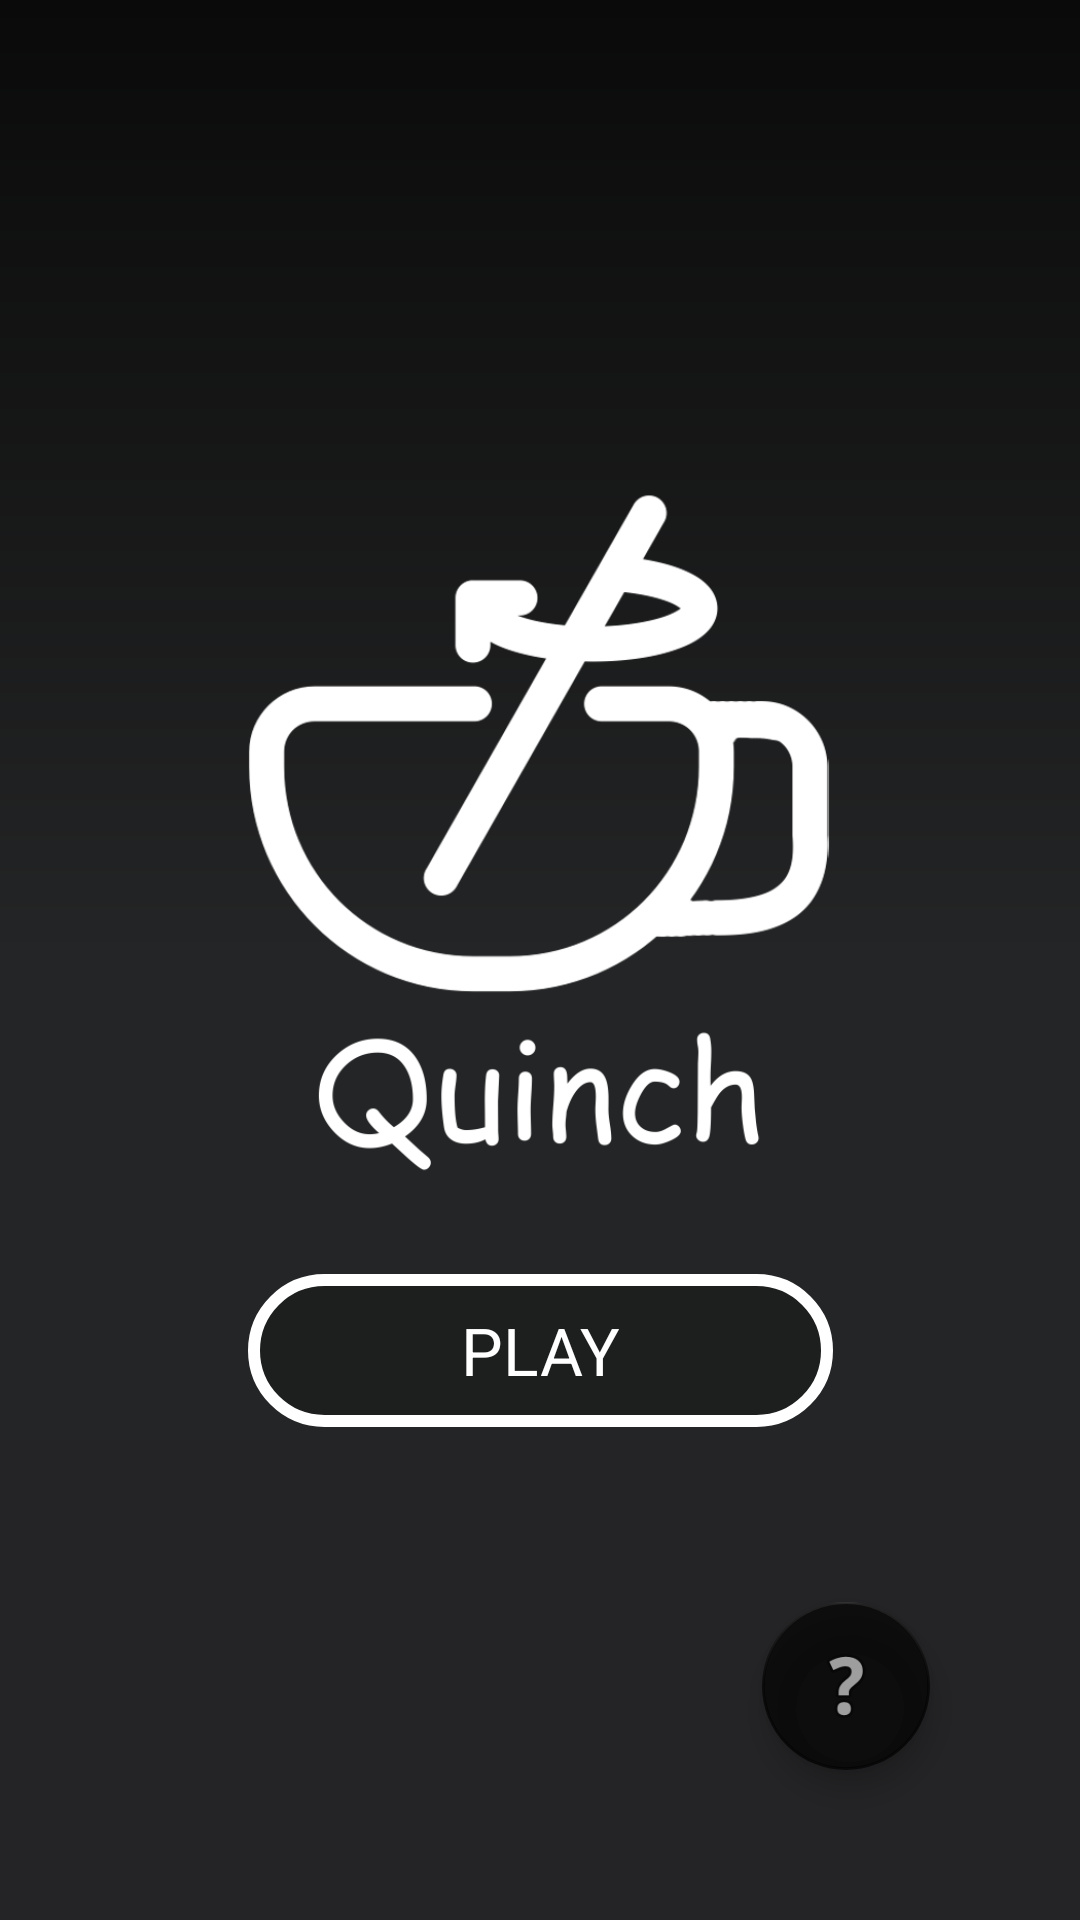

Where to tap for icons on this 1080x1920 app screen, as [x,y]:
help: [846,1686]
